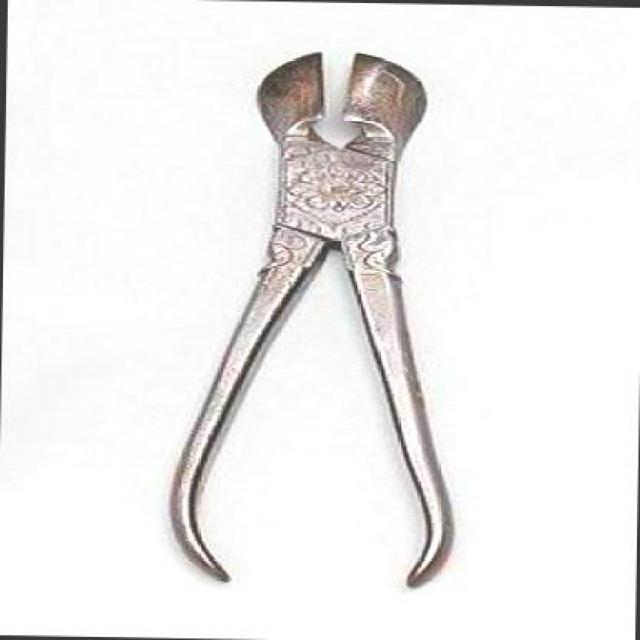pliers: (146, 29, 472, 603)
